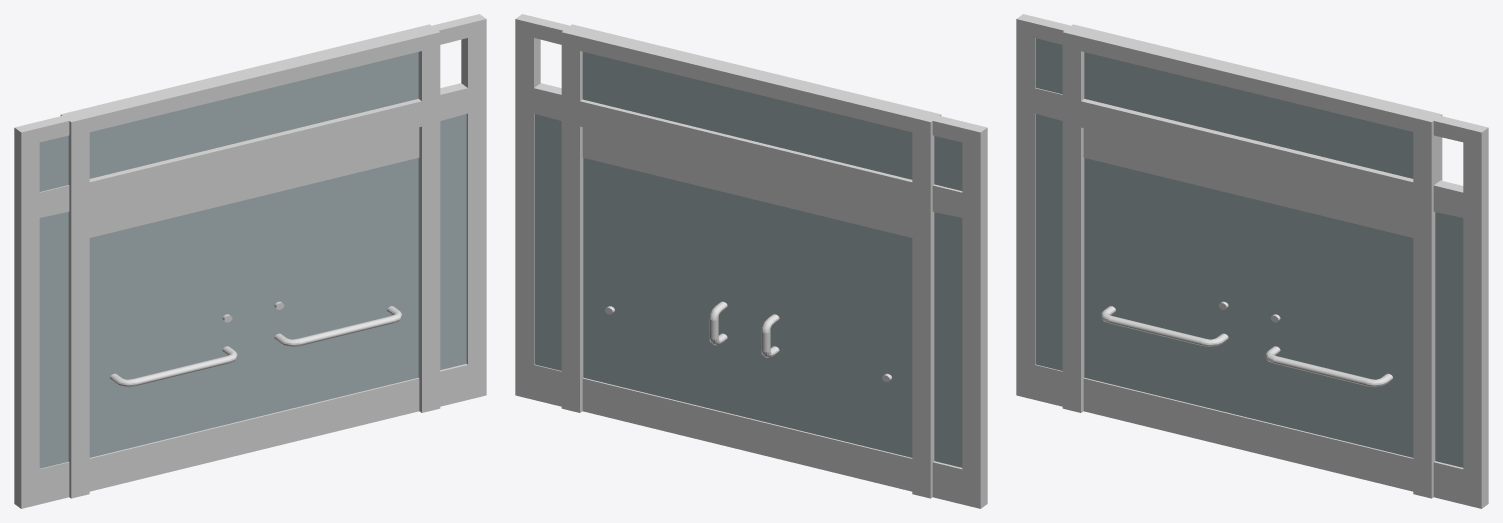
Rendered from fbx_school_outdoor_door1.fbx.
3 views of the same model, side by side, from view 1: azimuth 30°, elevation 25°; view 2: azimuth 150°, elevation 25°; view 3: azimuth 330°, elevation 25° (orthographic).
Visible parts, largest first — view 1: fbx_school_outdoor_door1; view 2: fbx_school_outdoor_door1; view 3: fbx_school_outdoor_door1.
Part boxes in pixels (<box>): fbx_school_outdoor_door1: <box>14,14,486,508</box>; fbx_school_outdoor_door1: <box>515,14,987,508</box>; fbx_school_outdoor_door1: <box>1016,14,1488,508</box>.
Bounding box in the file's own units: 1.57 × 1.21 × 0.1674.
Materials: 1 (1 with a texture image).
